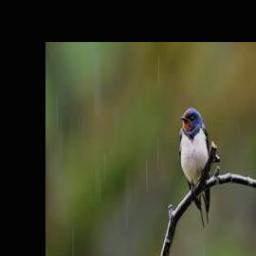Swallow: (178, 108, 210, 228)
